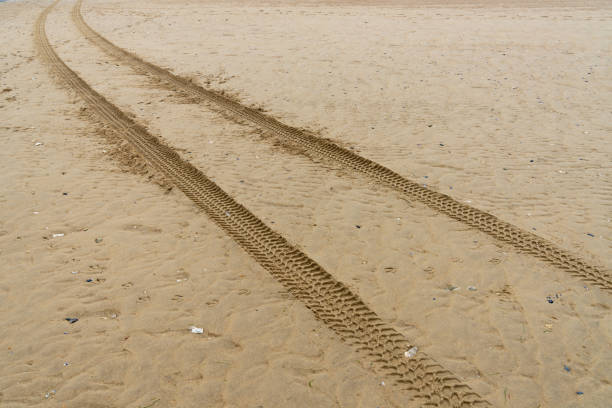vehicle_track: (35, 0, 489, 406), (72, 0, 611, 290)
